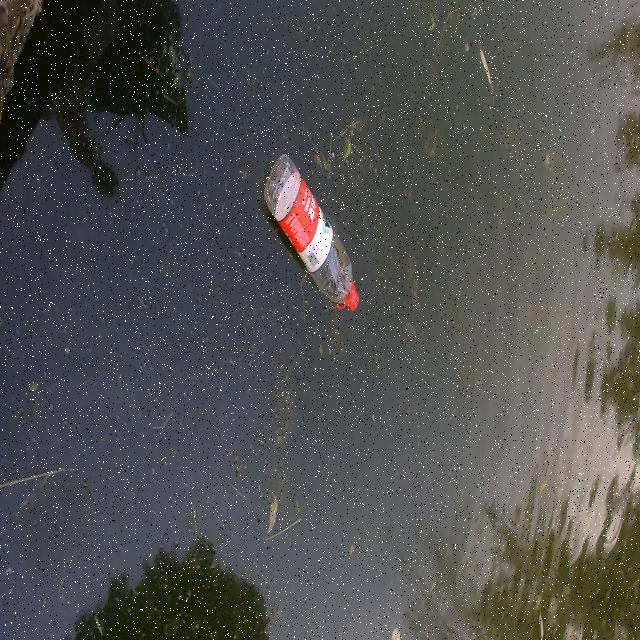Bottle: (260, 149, 360, 315)
